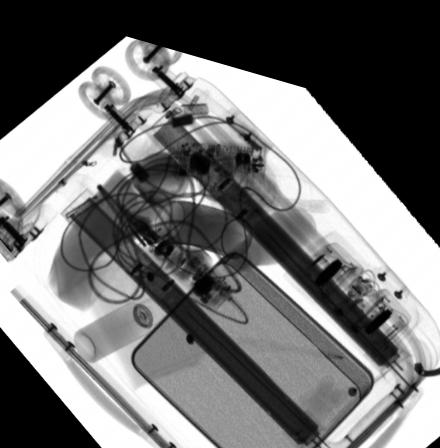Sprayer: (73, 278, 173, 358)
